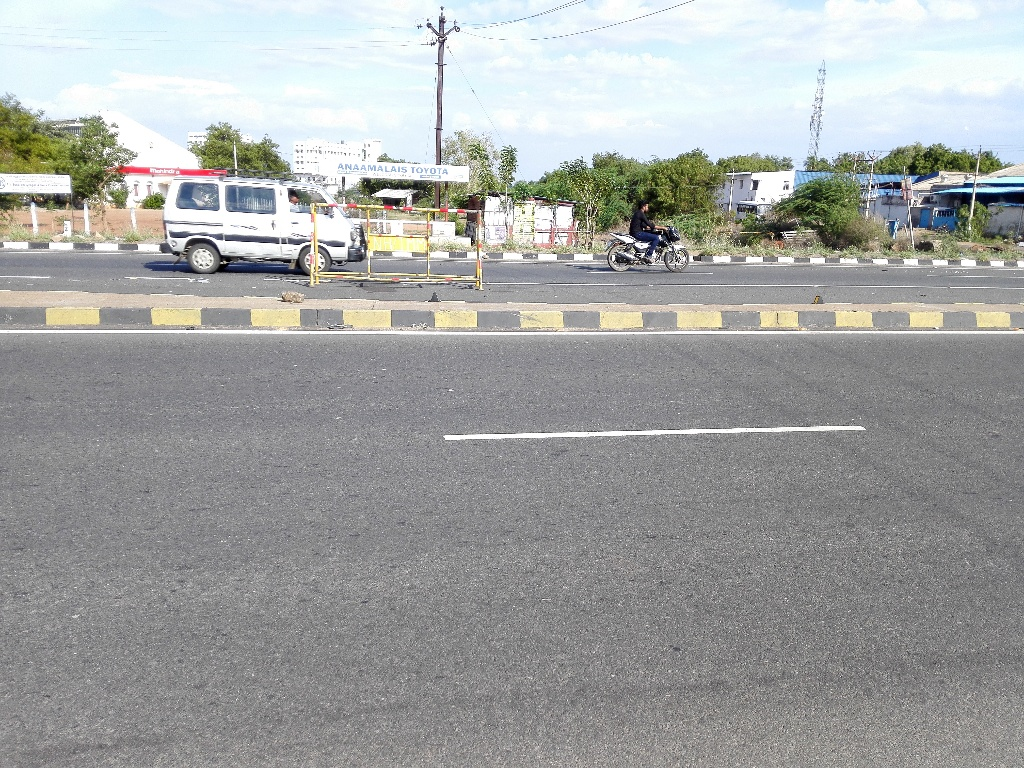biker: (595, 176, 701, 283)
nohelmet: (633, 192, 657, 220)
